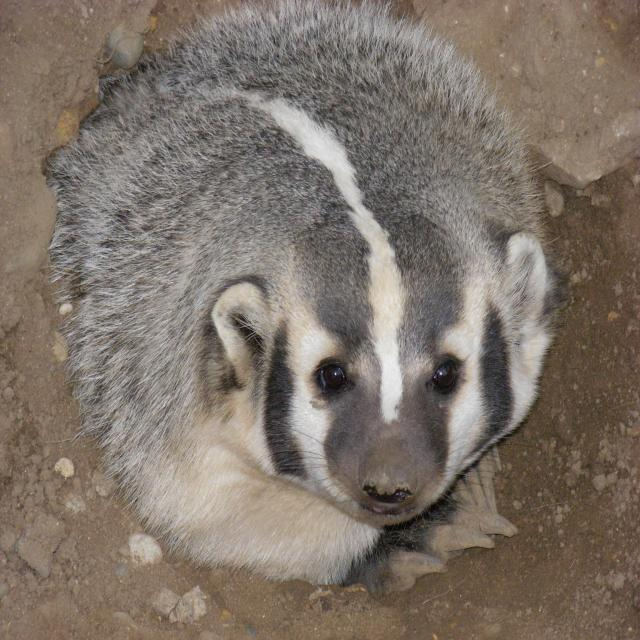Badger: (44, 0, 566, 582)
